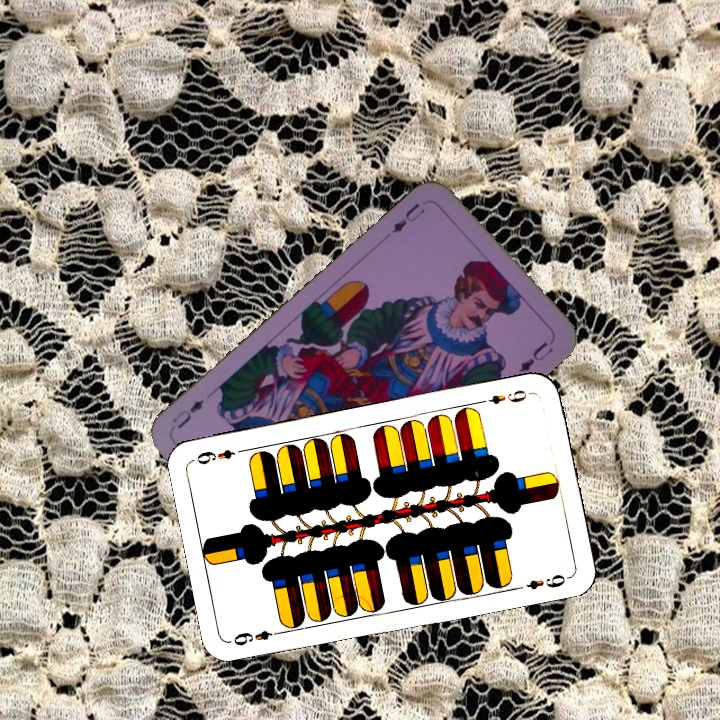E9: (476, 385, 535, 407), (227, 626, 286, 648)
EU: (387, 199, 428, 236)
